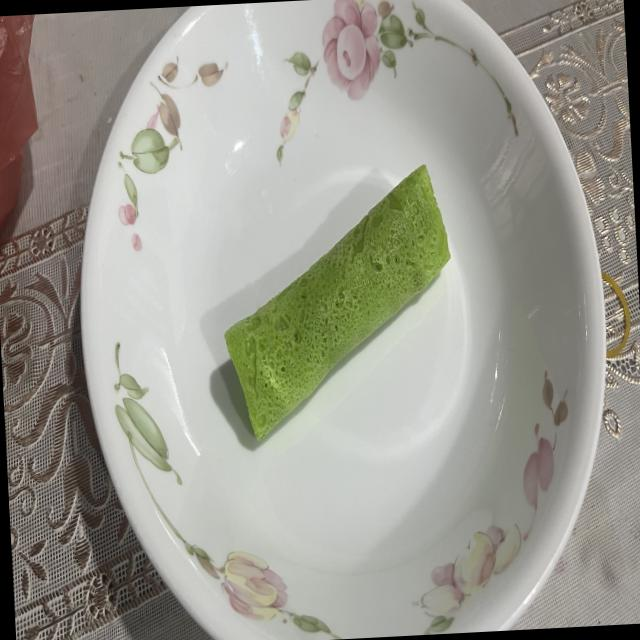Kuih-Ketayap: (225, 165, 451, 439)
